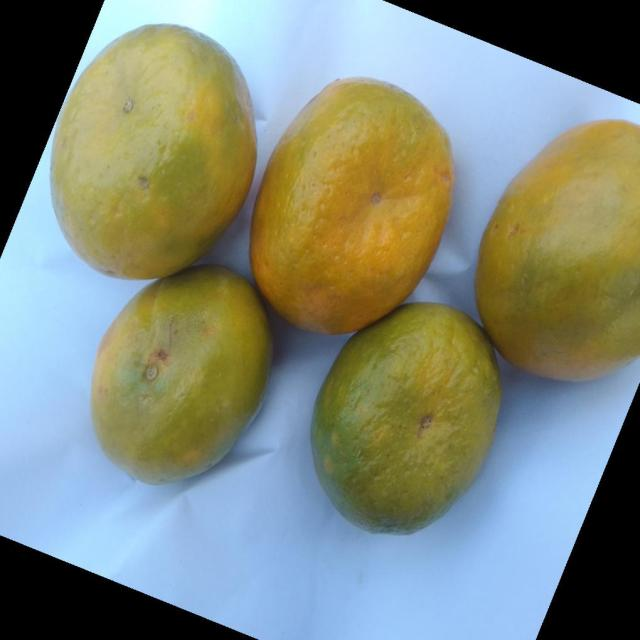fresh orange: (49, 21, 257, 280), (248, 74, 454, 334), (309, 300, 502, 534), (474, 118, 638, 382), (89, 263, 272, 485)
